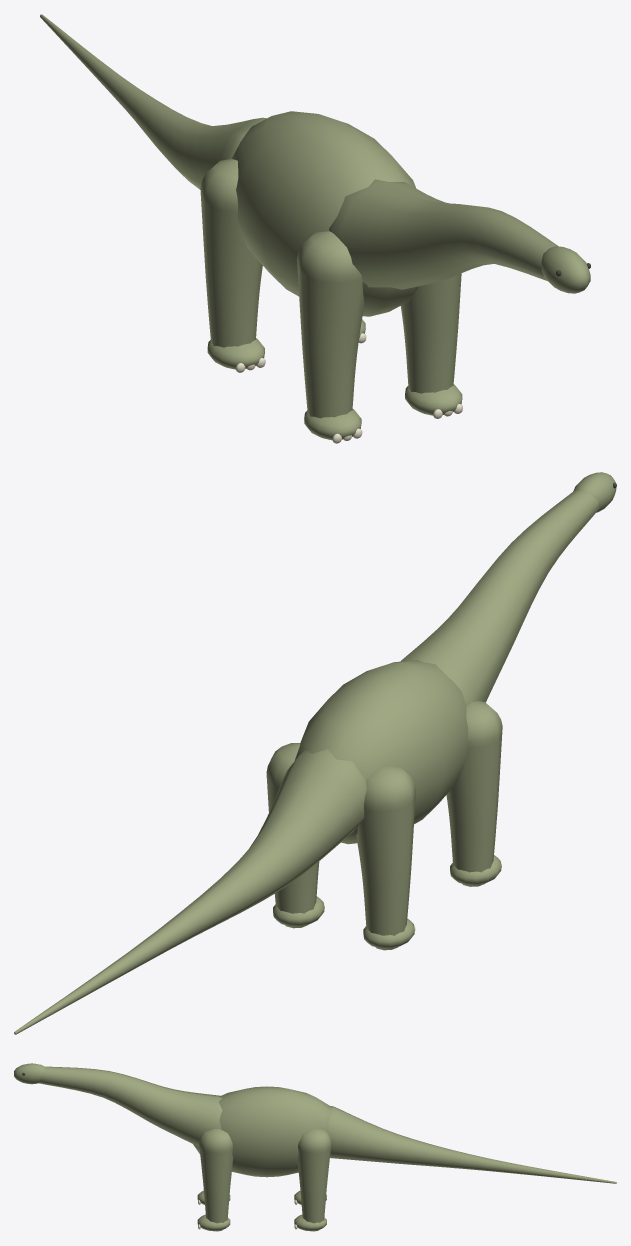
File: diplodocus.glb
3 renders of one model, top to bottom at view 1: azimuth 30°, elevation 25°; view 2: azimuth 150°, elevation 25°; view 3: azimuth 270°, elevation 25°, orthographic. The views are drawn at different scales.
Parts seen in each view (by area): view 1: diplodocus; view 2: diplodocus; view 3: diplodocus.
Boxes of the visible parts, left/top/right/bottom form: diplodocus: left=40, top=14, right=590, bottom=443; diplodocus: left=14, top=472, right=616, bottom=1034; diplodocus: left=14, top=1063, right=616, bottom=1231.
Size of the model in its own units: 3.91 by 7.33 by 26.
